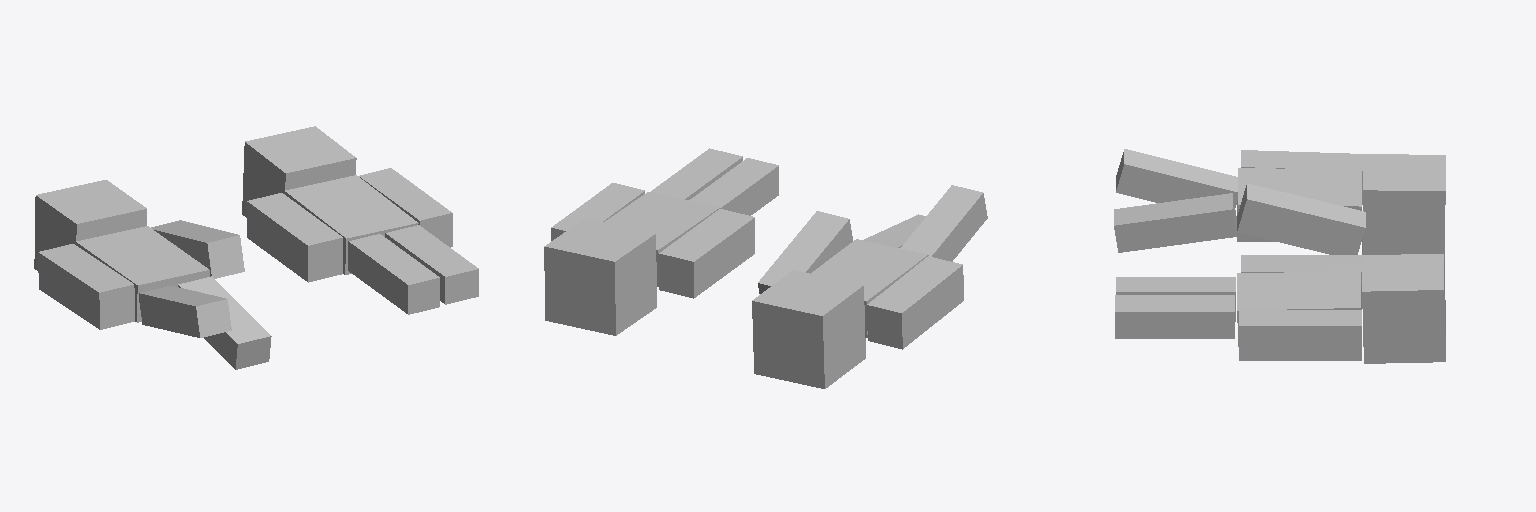
File: steve_000007.obj
3 views of the same model, side by side, from view 1: azimuth 30°, elevation 25°; view 2: azimuth 150°, elevation 25°; view 3: azimuth 270°, elevation 25° (orthographic).
Visible parts, largest first — view 1: Cube.001_Cube.002, Cube_Cube.001; view 2: Cube_Cube.001, Cube.001_Cube.002; view 3: Cube_Cube.001, Cube.001_Cube.002.
Part boxes in pixels (left/top/right/bottom): Cube.001_Cube.002: left=242, top=126, right=478, bottom=314; Cube_Cube.001: left=34, top=180, right=271, bottom=369; Cube_Cube.001: left=752, top=185, right=987, bottom=388; Cube.001_Cube.002: left=544, top=148, right=778, bottom=335; Cube_Cube.001: left=1114, top=149, right=1445, bottom=261; Cube.001_Cube.002: left=1115, top=254, right=1445, bottom=363.
Size of the model in its own units: 6.55 by 1.46 by 5.36.